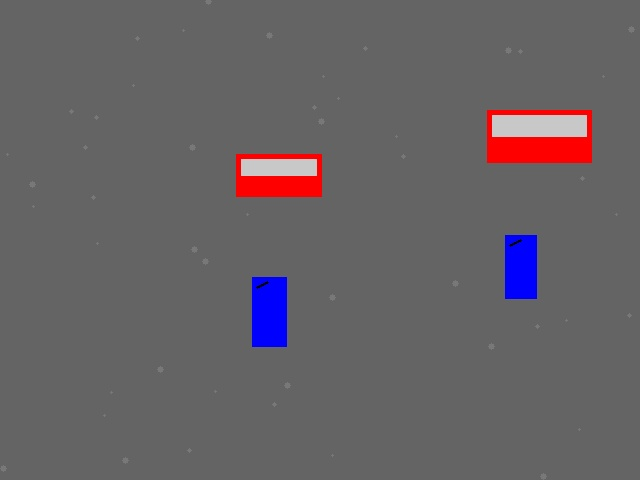car: (487, 110, 591, 162), (236, 154, 321, 196)
motorcycle: (252, 277, 286, 346), (505, 235, 536, 298)
